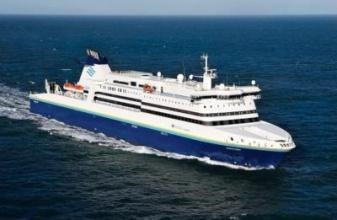otherboat: (35, 42, 299, 170)
